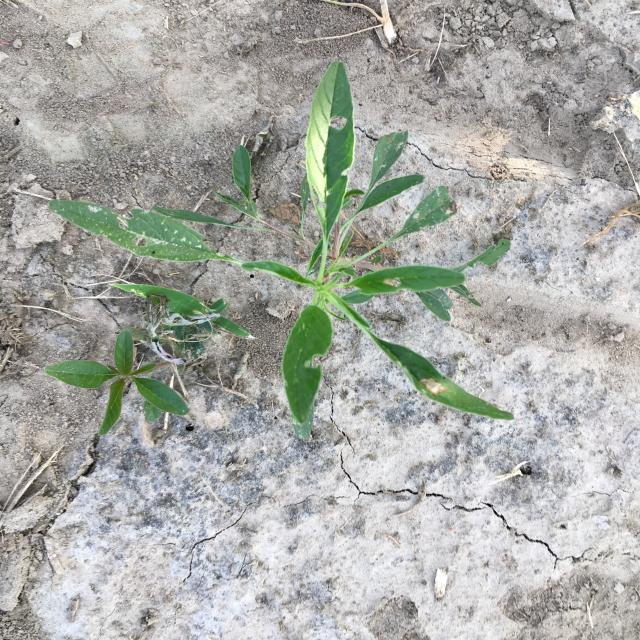Waterhemp: (48, 60, 514, 441), (44, 329, 189, 436)
